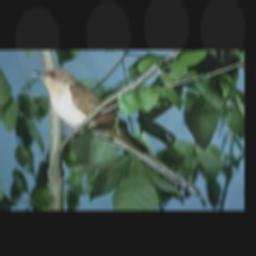Cuckoo: (23, 65, 202, 200)
